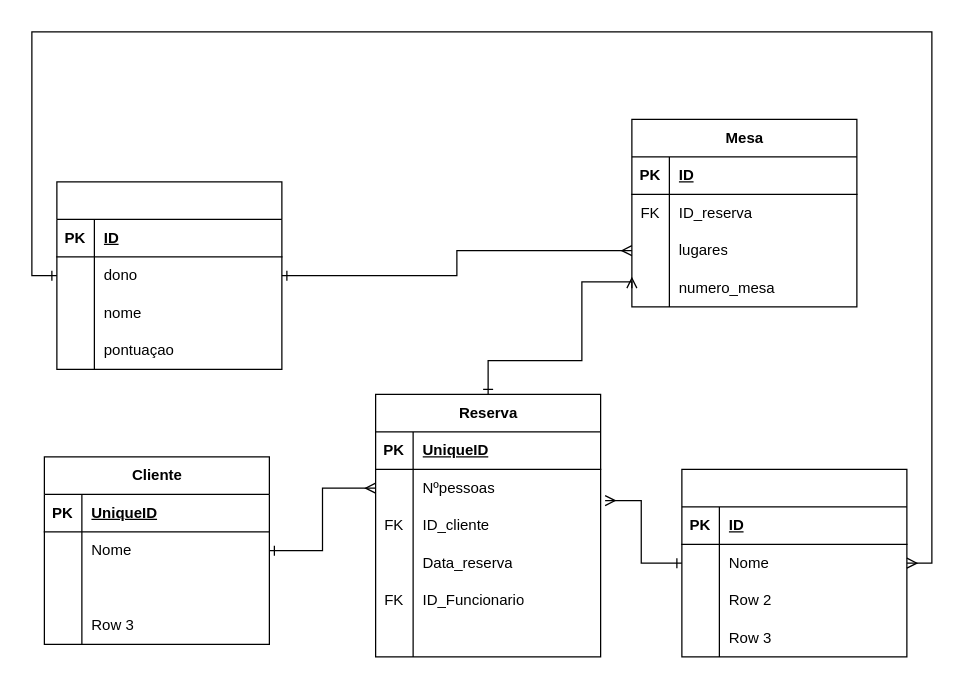
This 965x679 diagram has some shape labels left out. The box of each missing label's shape, as (x1, y1, x2, y2) in pixels:
Funcionario: (681, 468, 907, 657)
Restaurante: (56, 181, 282, 369)
